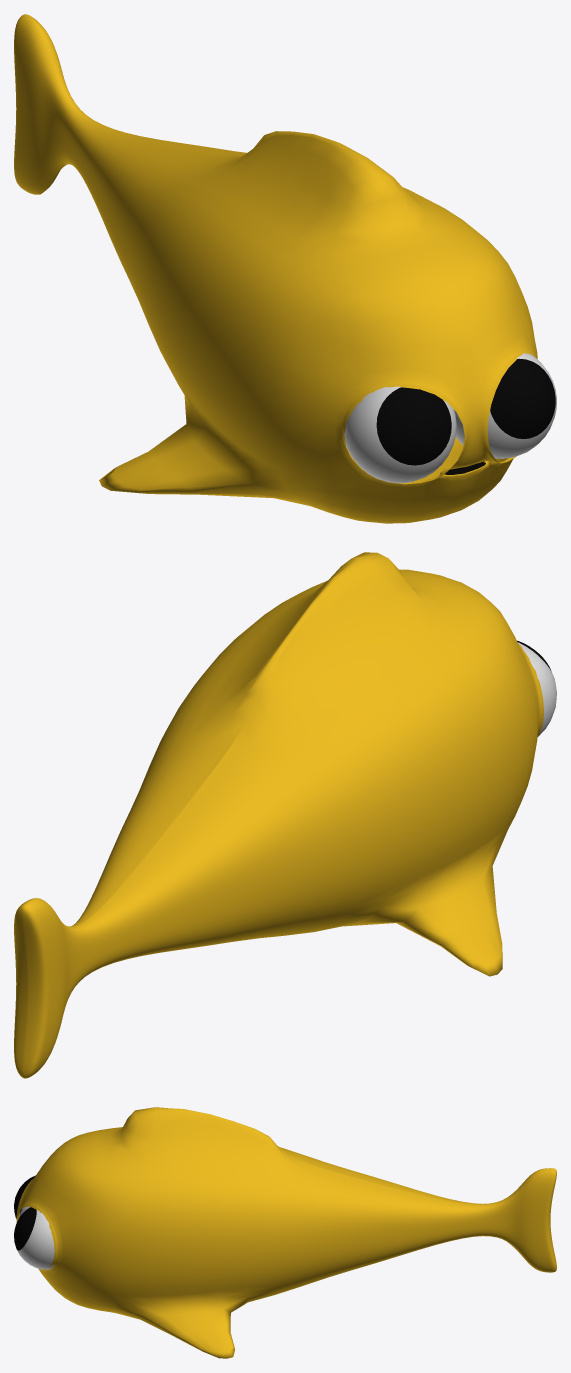
File: fish.glb
3 renders of one model, top to bottom at view 1: azimuth 30°, elevation 25°; view 2: azimuth 150°, elevation 25°; view 3: azimuth 270°, elevation 25°, orthographic. The views are drawn at different scales.
Visible parts, largest first — view 1: Cube, Sphere; view 2: Cube, Sphere; view 3: Cube, Sphere.
Boxes of the visible parts, x1,y1,x2,y2 form: Cube: (14,14,537,523); Sphere: (344,353,556,483); Cube: (14,552,543,1078); Sphere: (517,640,556,736); Cube: (16,1107,556,1358); Sphere: (14,1175,54,1269).
Size of the model in its own units: 2.71 by 2.14 by 5.4.
